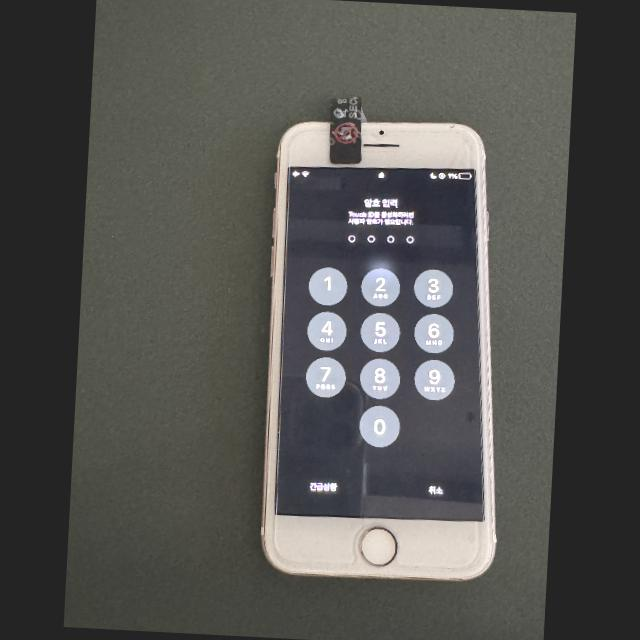lens: (379, 131, 384, 135)
phone: (261, 122, 495, 580)
sticker: (330, 98, 367, 164)
